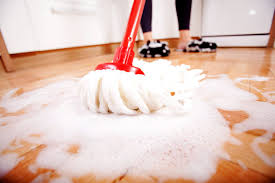Wet-floor: (24, 58, 254, 181)
